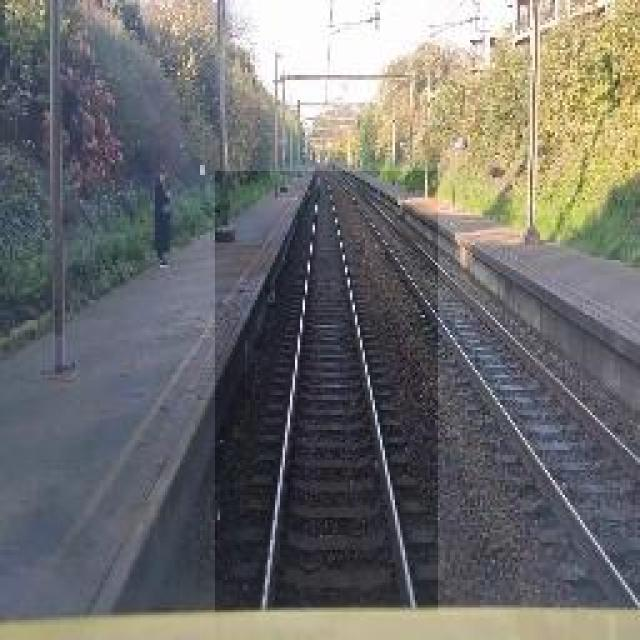rail: (217, 172, 439, 613)
